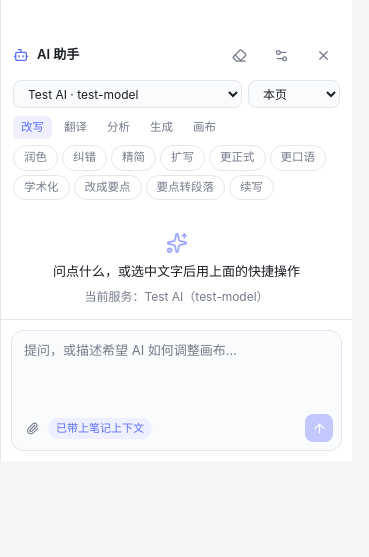
Test: AIPanel canvas generation › keeps a rejected generation error visible in the unified conversation
This screenshot has width=369, height=557.
Click the button "画布" at {"x": 204, "y": 128}, box [185,116,224,139]
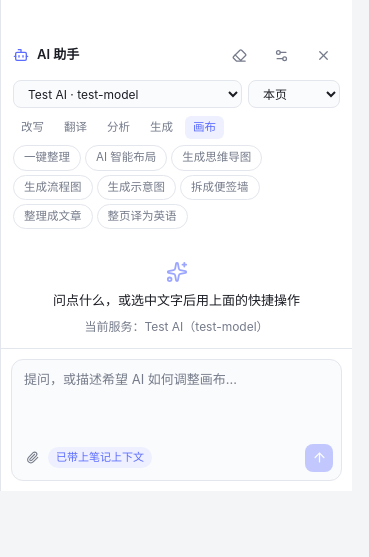
Click the button "生成思维导图" at {"x": 217, "y": 158}, box [171,145,262,171]
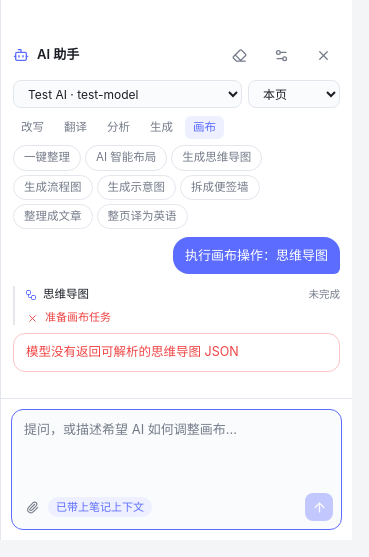
Now the text "执行画布操作：思维导图" is shown, box [173,237,340,274]
Now the text "模型没有返回可解析的思维导图 JSON" is shown, box [13,333,340,372]
